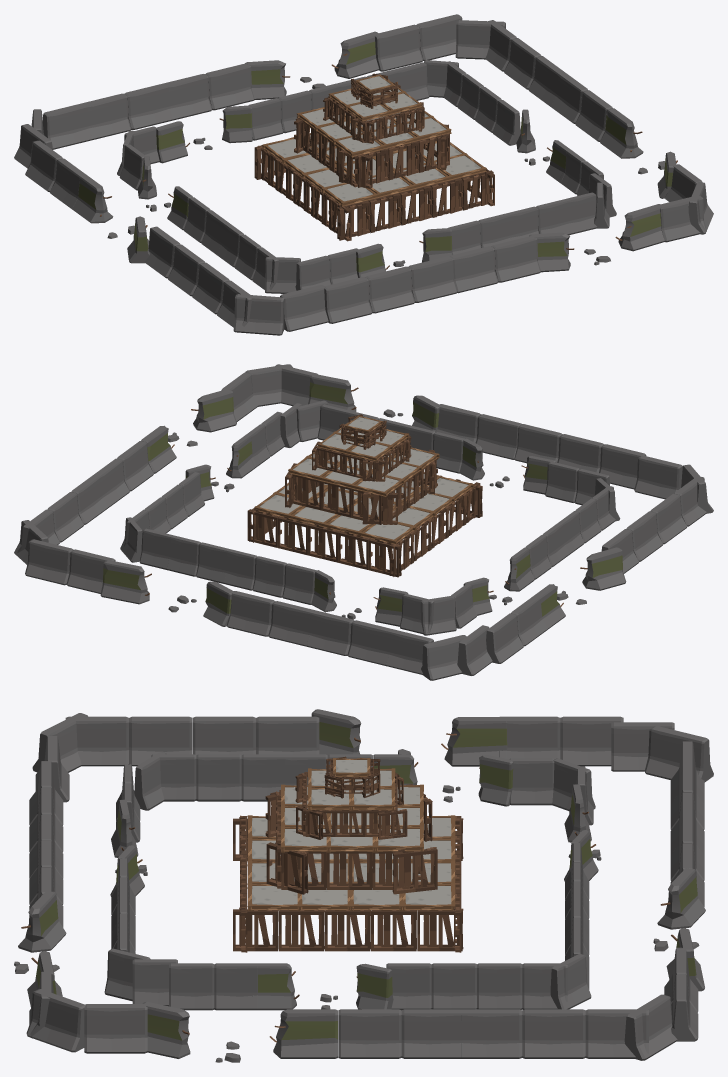
3 renders of one model, top to bottom at view 1: azimuth 30°, elevation 25°; view 2: azimuth 150°, elevation 25°; view 3: azimuth 270°, elevation 25°, orthographic. The views are drawn at different scales.
Visible parts, largest first — view 1: Duvarlar, Bina; view 2: Duvarlar, Bina; view 3: Duvarlar, Bina.
Boxes of the visible parts, x1,y1,x2,y2 form: Duvarlar: (14,14,713,335); Bina: (254,73,494,241); Duvarlar: (14,364,713,680); Bina: (247,414,482,577); Duvarlar: (14,709,713,1062); Bina: (233,756,463,952).
Size of the model in its own units: 16.56 by 3.44 by 15.43.
1 material, 1 textured.
